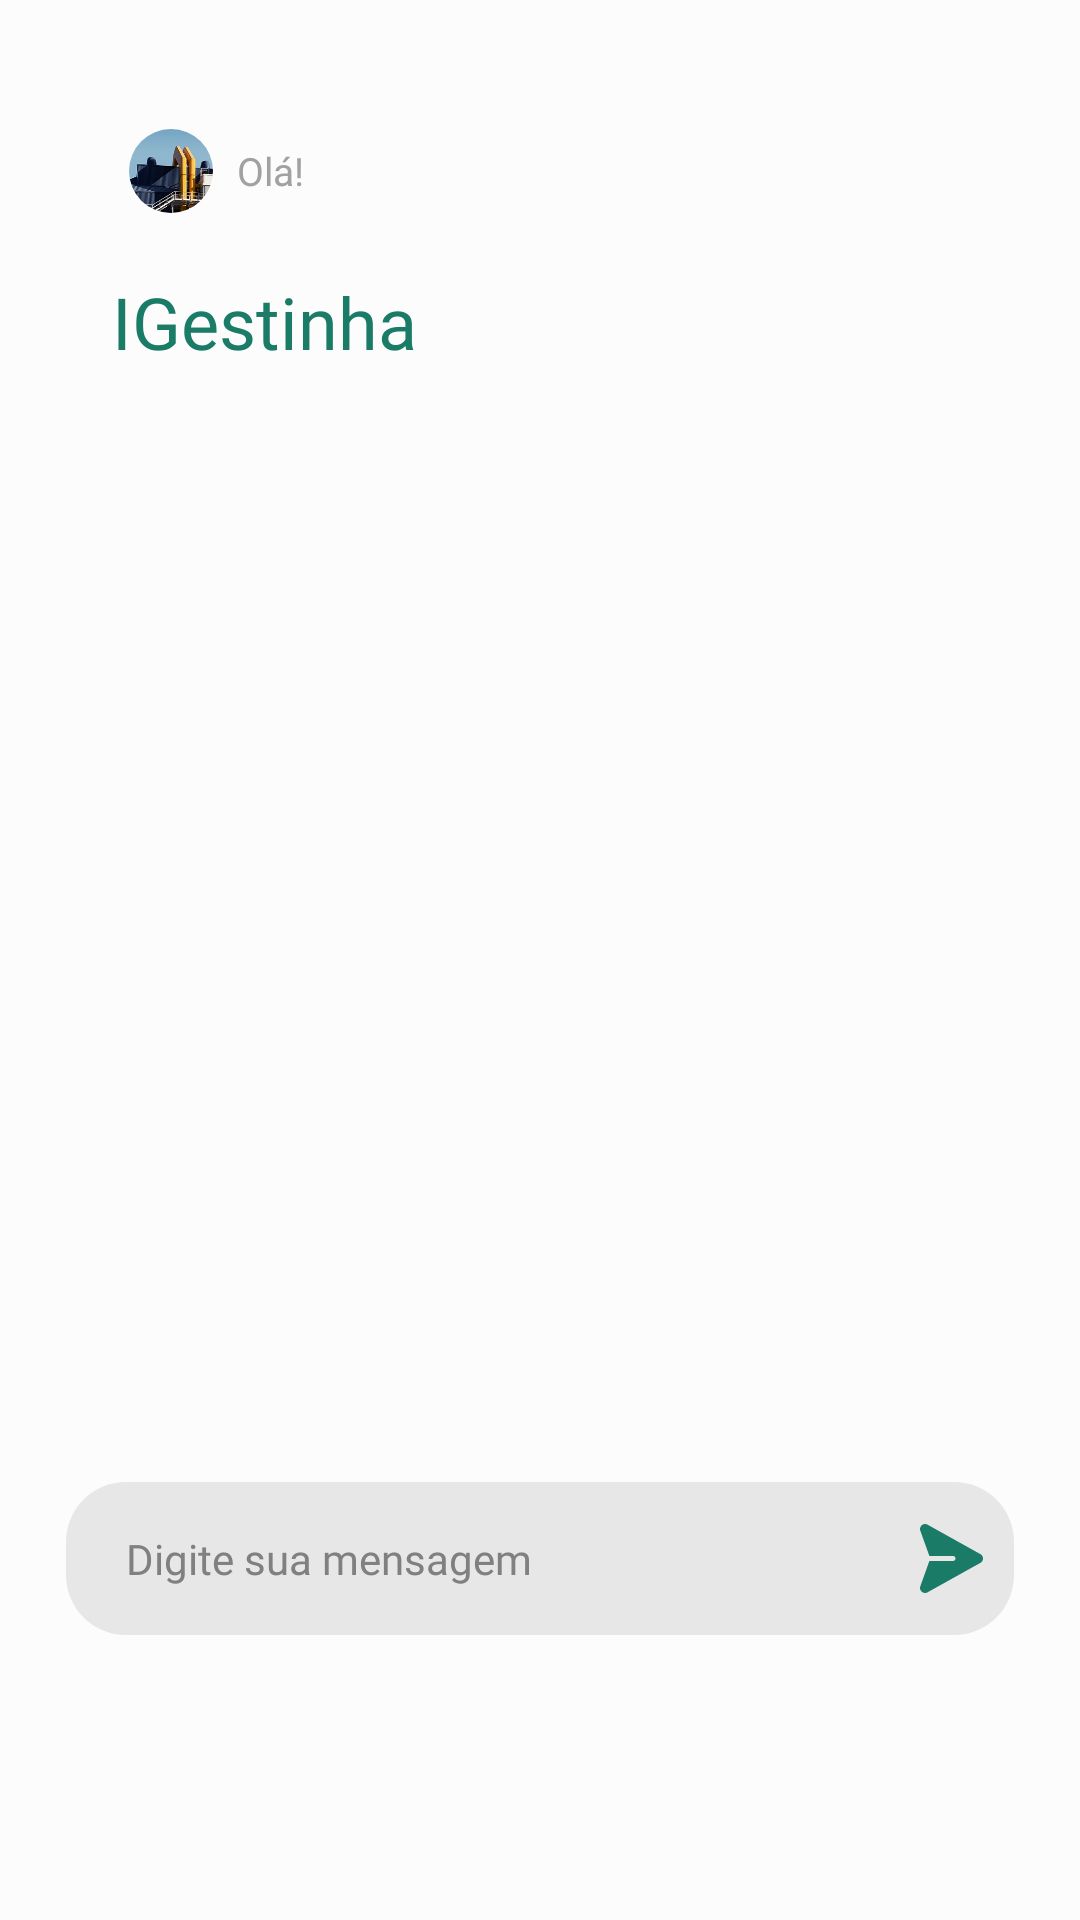

Screen size 1080x1920. Icon name, then its box in pixels as Rect(x1, y1, x2, y2):
enviar mensagem: Rect(920, 1524, 983, 1593)
fotoperfil: Rect(129, 129, 213, 213)
